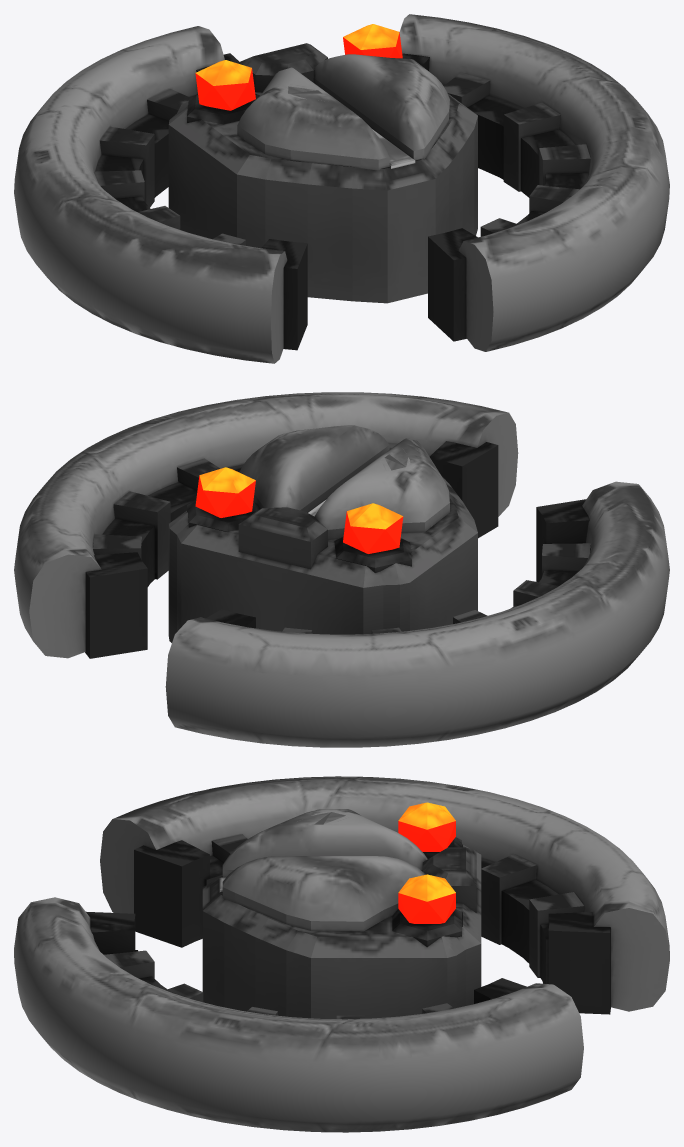
Rendered from newsh2-229-f2.glb.
3 renders of one model, top to bottom at view 1: azimuth 30°, elevation 25°; view 2: azimuth 150°, elevation 25°; view 3: azimuth 270°, elevation 25°, orthographic.
Visible parts, largest first — view 1: newsh2-229-f2; view 2: newsh2-229-f2; view 3: newsh2-229-f2.
Boxes of the visible parts, x1,y1,x2,y2 form: newsh2-229-f2: [14, 14, 669, 363]; newsh2-229-f2: [14, 392, 669, 747]; newsh2-229-f2: [14, 776, 669, 1132].
Size of the model in its own units: 1.77 by 0.5154 by 1.76.
Materials: 9 (9 with a texture image).
